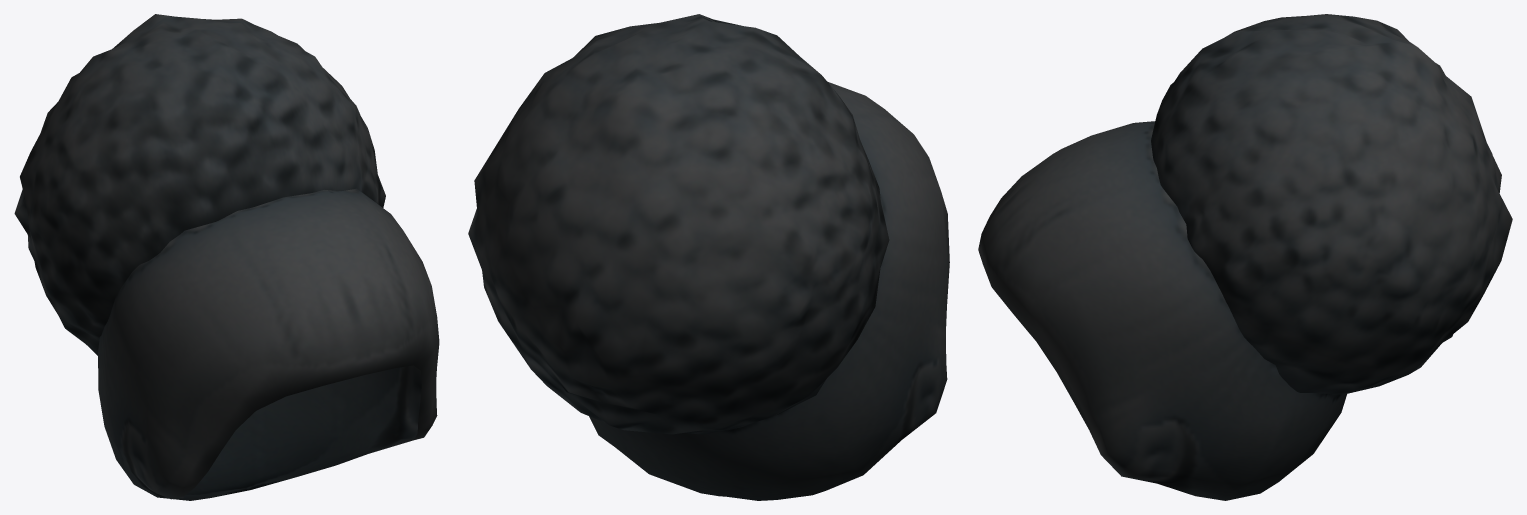
The model's file is Hair_F02 (3).fbx.
The picture shows the model from 3 angles, left to right: view 1: azimuth 30°, elevation 25°; view 2: azimuth 150°, elevation 25°; view 3: azimuth 270°, elevation 25°; orthographic projection. The views are drawn at different scales.
Parts seen in each view (by area): view 1: Hair_F02; view 2: Hair_F02; view 3: Hair_F02.
Boxes of the visible parts, x1,y1,x2,y2 form: Hair_F02: [14, 14, 439, 500]; Hair_F02: [468, 14, 949, 500]; Hair_F02: [978, 14, 1512, 500].
Bounding box in the file's own units: 3.73 × 4.82 × 5.23.
